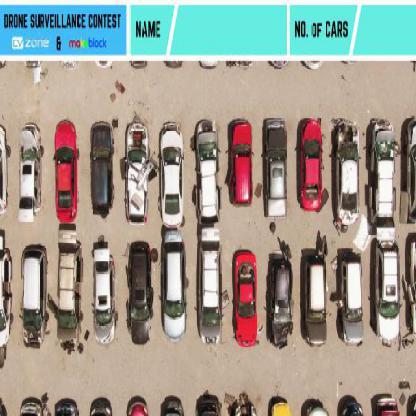car: (161, 127, 187, 335), (196, 129, 222, 337), (124, 122, 154, 226), (193, 120, 219, 224), (336, 120, 360, 228), (160, 126, 184, 228), (263, 117, 287, 218), (297, 119, 323, 212), (127, 242, 151, 340), (55, 122, 79, 219), (91, 122, 115, 214), (20, 126, 43, 220), (237, 251, 258, 345)
